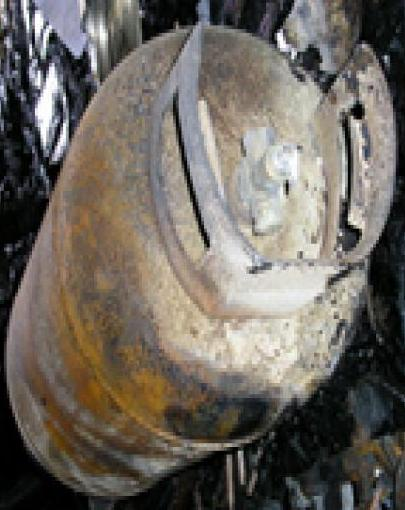cylinder: (1, 1, 405, 510)
